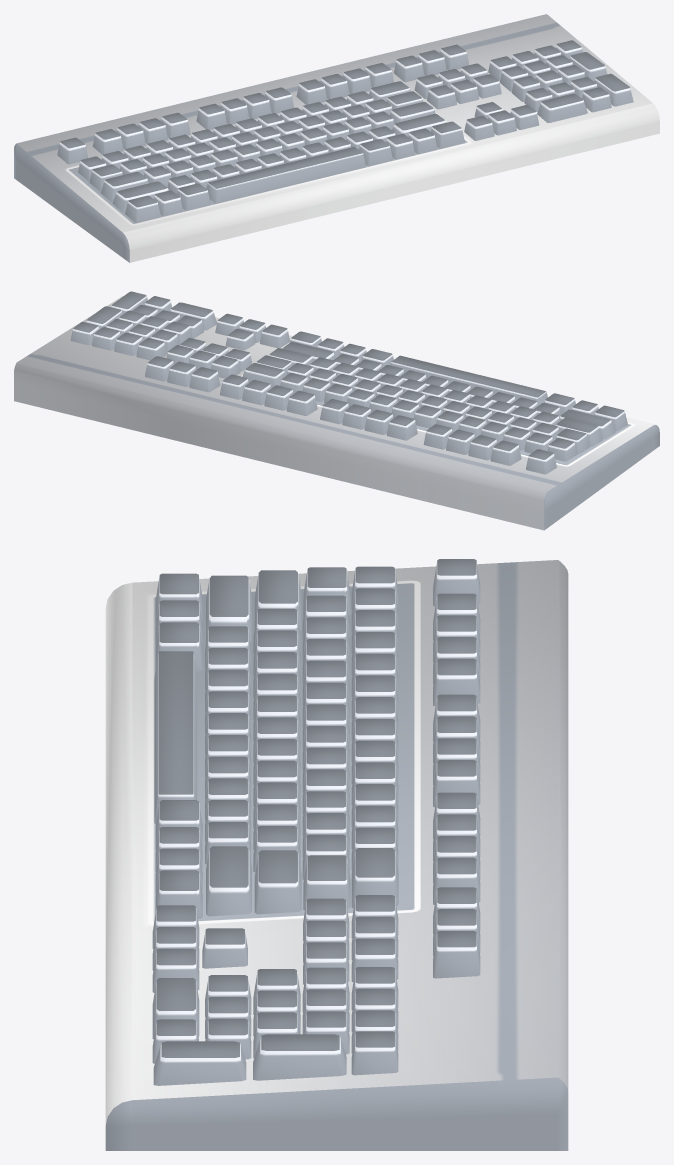
File: Keyboard.gltf
3 views of the same model, one above another, from view 1: azimuth 30°, elevation 25°; view 2: azimuth 150°, elevation 25°; view 3: azimuth 270°, elevation 25° (orthographic). The views are drawn at different scales.
Parts seen in each view (by area): view 1: Keys; view 2: Keys; view 3: Keys.
Part boxes in pixels (x1,y1,x2,y2): Keys: (14,14,659,262); Keys: (14,291,659,530); Keys: (105,559,568,1150).
Size of the model in its own units: 0.45 by 0.039 by 0.17.
1 material, 1 textured.
